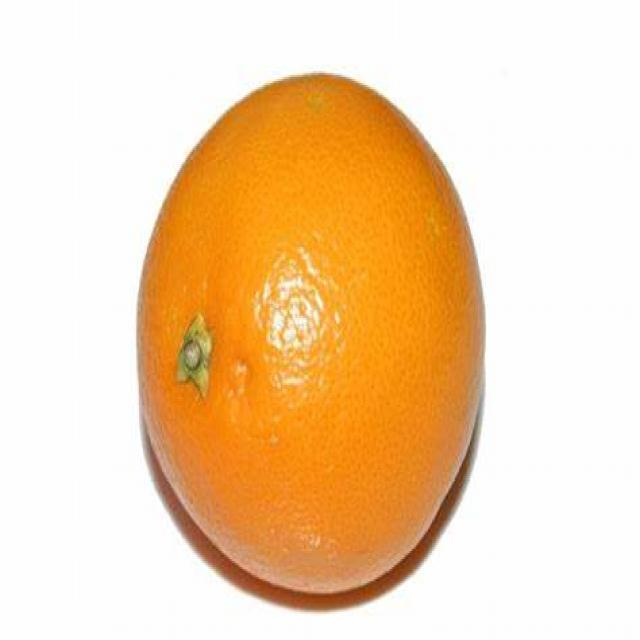Orange: (136, 76, 492, 597)
